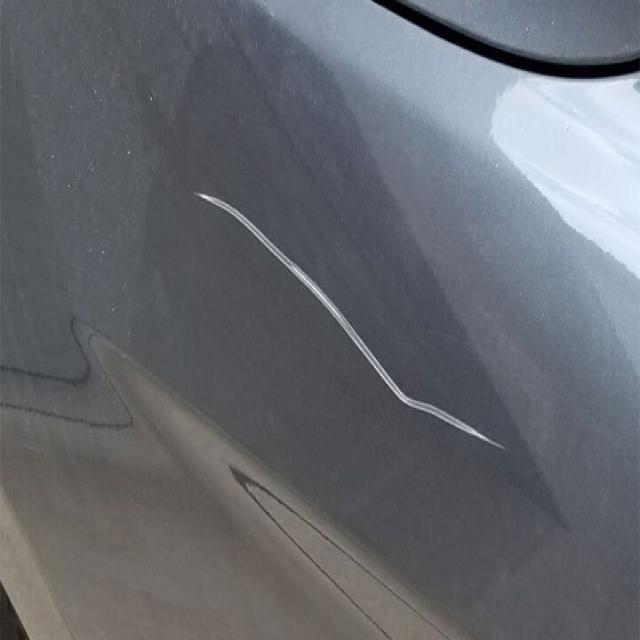paint-trace: (180, 168, 513, 507)
